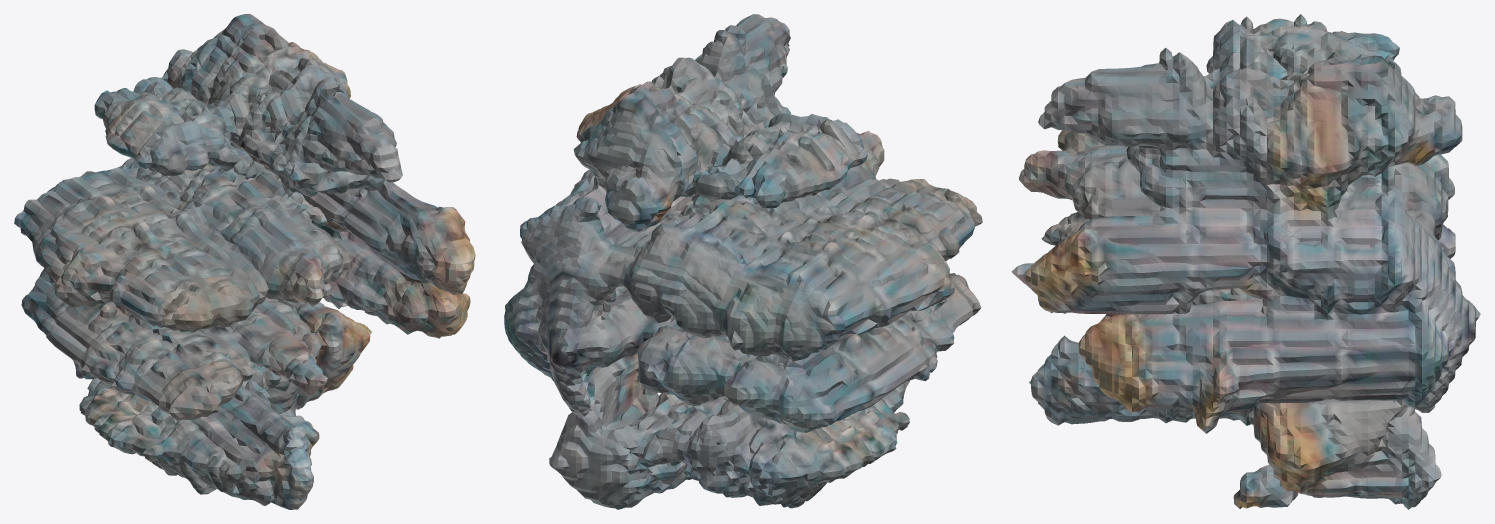
3 views of the same model, side by side, from view 1: azimuth 30°, elevation 25°; view 2: azimuth 150°, elevation 25°; view 3: azimuth 270°, elevation 25° (orthographic). The views are drawn at different scales.
Parts seen in each view (by area): view 1: world; view 2: world; view 3: world.
Boxes of the visible parts, x1,y1,x2,y2 form: world: [14, 14, 475, 509]; world: [504, 14, 982, 509]; world: [1011, 14, 1480, 509].
Size of the model in its own units: 1.04 by 1.03 by 0.954.
